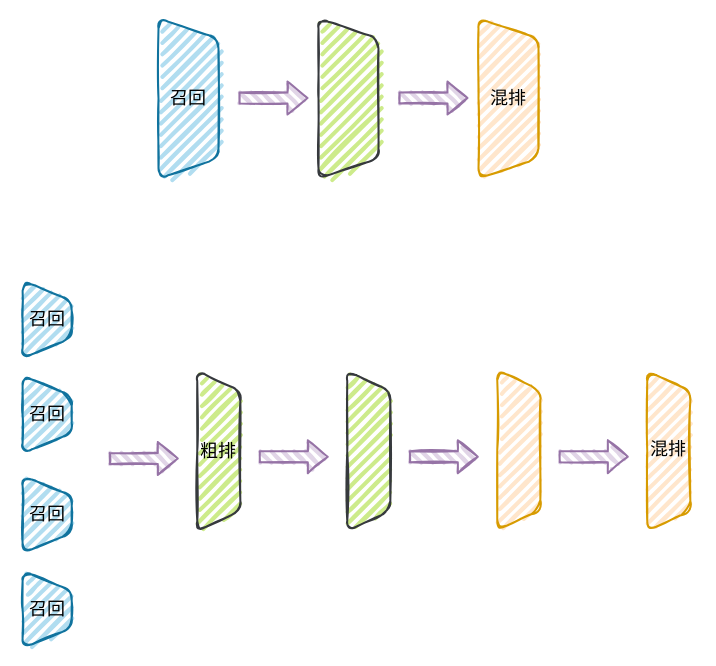
Image size: 716x666. Some labels were removed from this diagram. Each missing label, with the centre of its shape:
"排序" belongs at (x=348, y=98).
"精排" belongs at (x=368, y=451).
"重排" belongs at (x=518, y=450).
